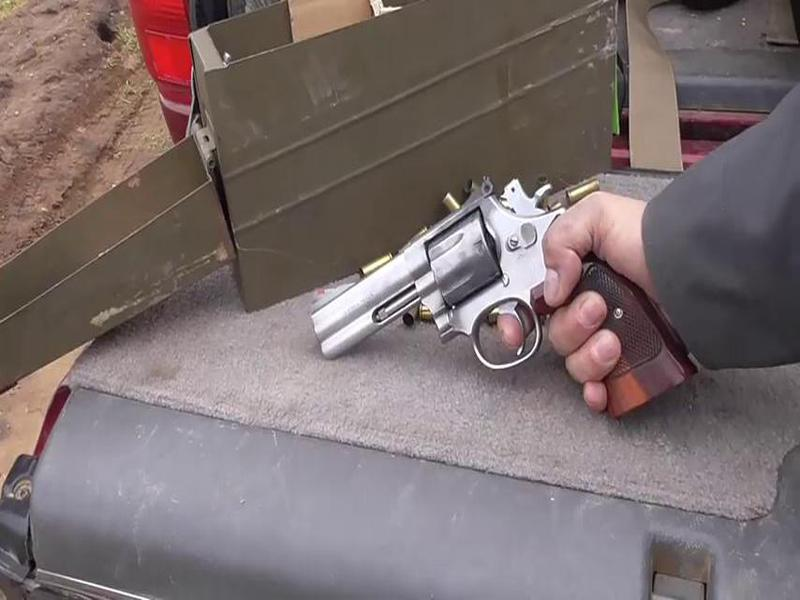Revolver: (286, 179, 621, 425)
